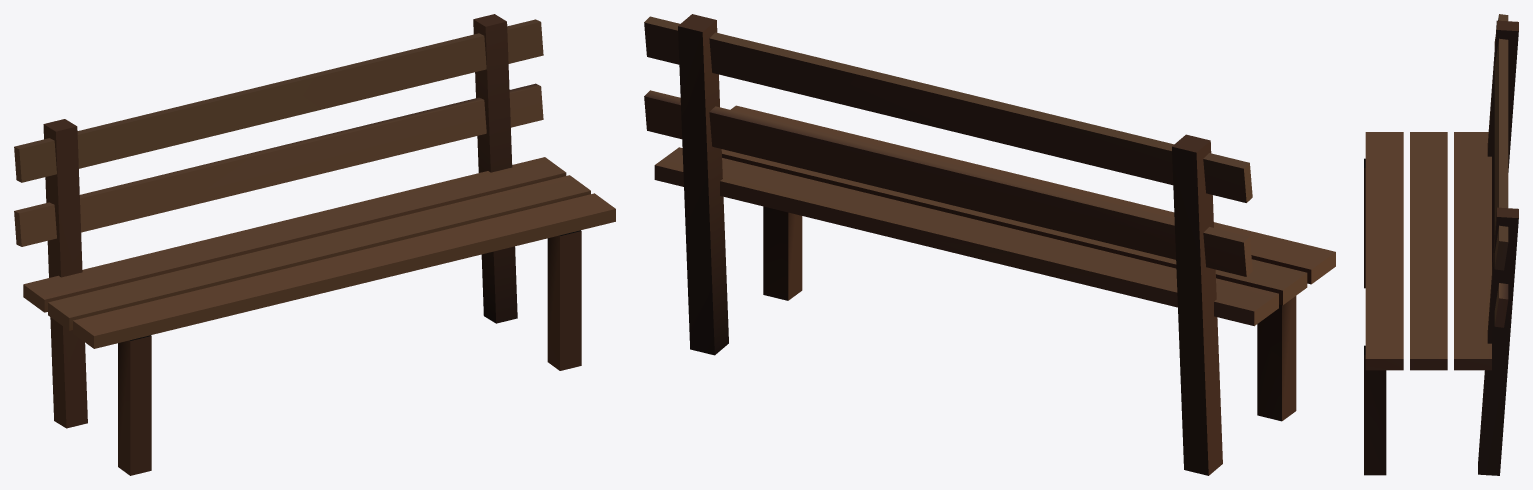
File: banco_madera.glb
The picture shows the model from 3 angles, left to right: view 1: azimuth 30°, elevation 25°; view 2: azimuth 150°, elevation 25°; view 3: azimuth 270°, elevation 25°; orthographic projection. The views are drawn at different scales.
Visible parts, largest first — view 1: banco_madera_piezas; view 2: banco_madera_piezas; view 3: banco_madera_piezas.
Part boxes in pixels (x1,y1,x2,y2): banco_madera_piezas: (14, 14, 615, 475); banco_madera_piezas: (644, 14, 1335, 475); banco_madera_piezas: (1364, 14, 1518, 475).
Bounding box in the file's own units: 1.7 × 0.9047 × 0.4899.
